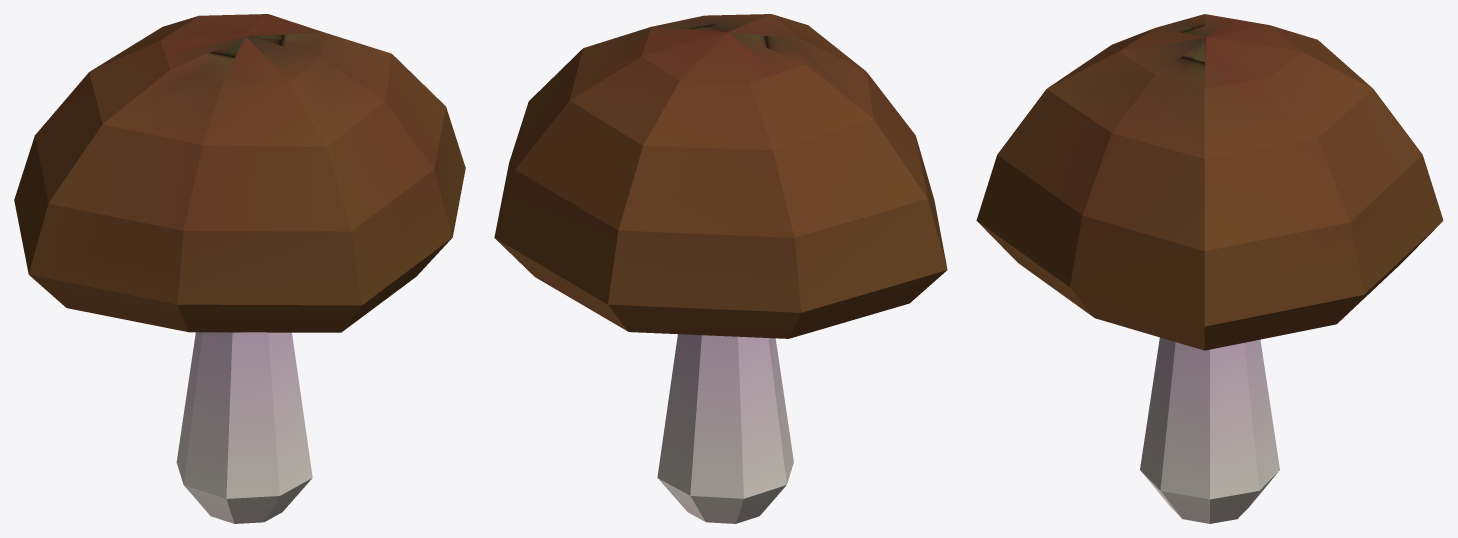
The picture shows the model from 3 angles, left to right: view 1: azimuth 30°, elevation 25°; view 2: azimuth 150°, elevation 25°; view 3: azimuth 270°, elevation 25°; orthographic projection.
Visible parts, largest first — view 1: facet_band, stem_band; view 2: facet_band, stem_band; view 3: facet_band, stem_band.
Part boxes in pixels (left/top/right/bottom): facet_band: left=14, top=14, right=465, bottom=332; stem_band: left=176, top=332, right=312, bottom=523; facet_band: left=494, top=14, right=947, bottom=338; stem_band: left=657, top=334, right=793, bottom=523; facet_band: left=976, top=14, right=1443, bottom=350; stem_band: left=1140, top=337, right=1279, bottom=523.
Bounding box in the file's own units: 0.0967 × 0.1 × 0.09.
